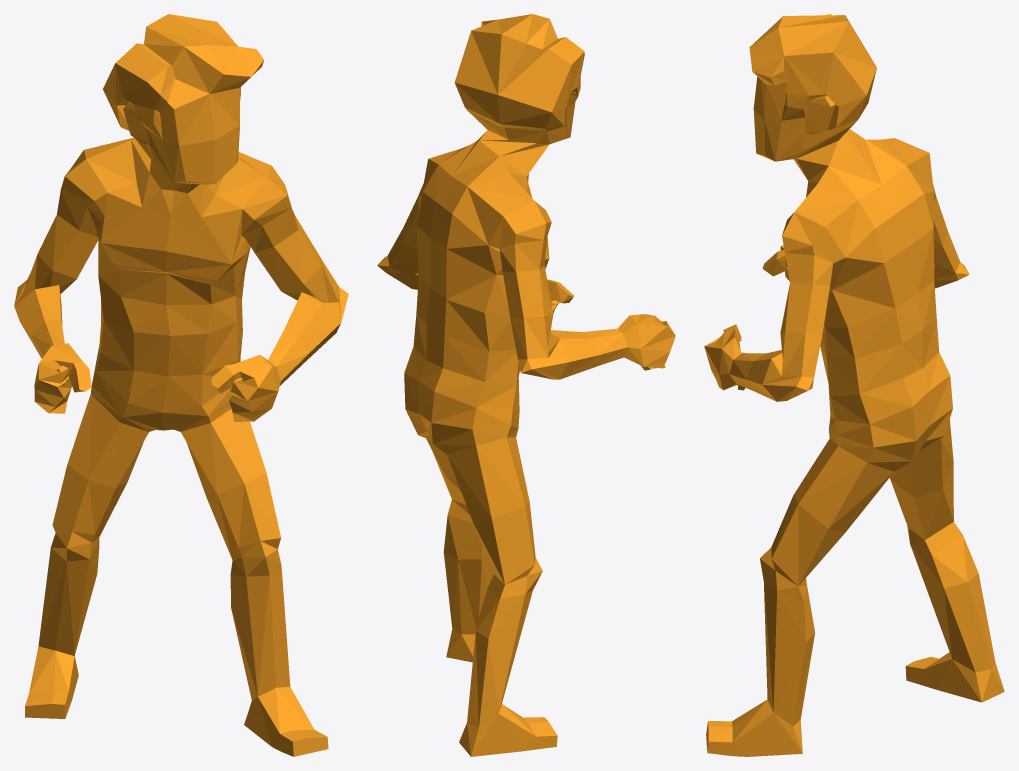
The model's file is SM_Pawn_Idle_Male_01.fbx.
3 views of the same model, side by side, from view 1: azimuth 30°, elevation 25°; view 2: azimuth 150°, elevation 25°; view 3: azimuth 270°, elevation 25° (orthographic). The views are drawn at different scales.
Visible parts, largest first — view 1: SM_Pawn_Idle_Male_01; view 2: SM_Pawn_Idle_Male_01; view 3: SM_Pawn_Idle_Male_01.
Part boxes in pixels (<box>): SM_Pawn_Idle_Male_01: <box>14,14,348,756</box>; SM_Pawn_Idle_Male_01: <box>377,14,675,756</box>; SM_Pawn_Idle_Male_01: <box>704,14,1004,756</box>.
Size of the model in its own units: 81.66 by 177 by 69.26.
